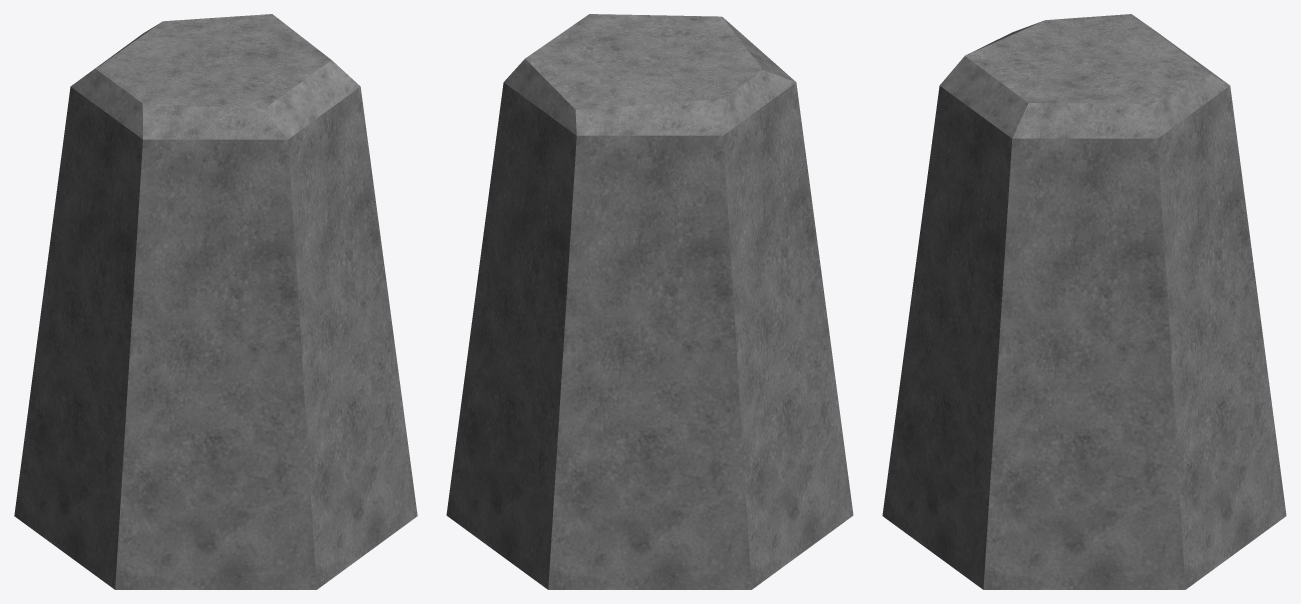
Rendered from Pillar_02.fbx.
The picture shows the model from 3 angles, left to right: view 1: azimuth 30°, elevation 25°; view 2: azimuth 150°, elevation 25°; view 3: azimuth 270°, elevation 25°; orthographic projection.
Parts seen in each view (by area): view 1: Pillar_02; view 2: Pillar_02; view 3: Pillar_02.
Part boxes in pixels (bbox=[...]): Pillar_02: bbox=[14, 14, 417, 589]; Pillar_02: bbox=[446, 14, 853, 589]; Pillar_02: bbox=[882, 14, 1286, 589].
Bounding box in the file's own units: 173 × 249 × 200.
